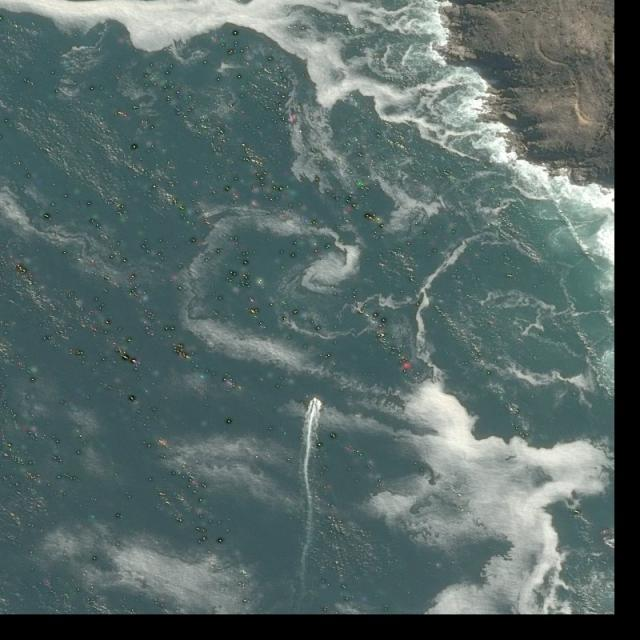ship: (313, 398, 318, 406)
